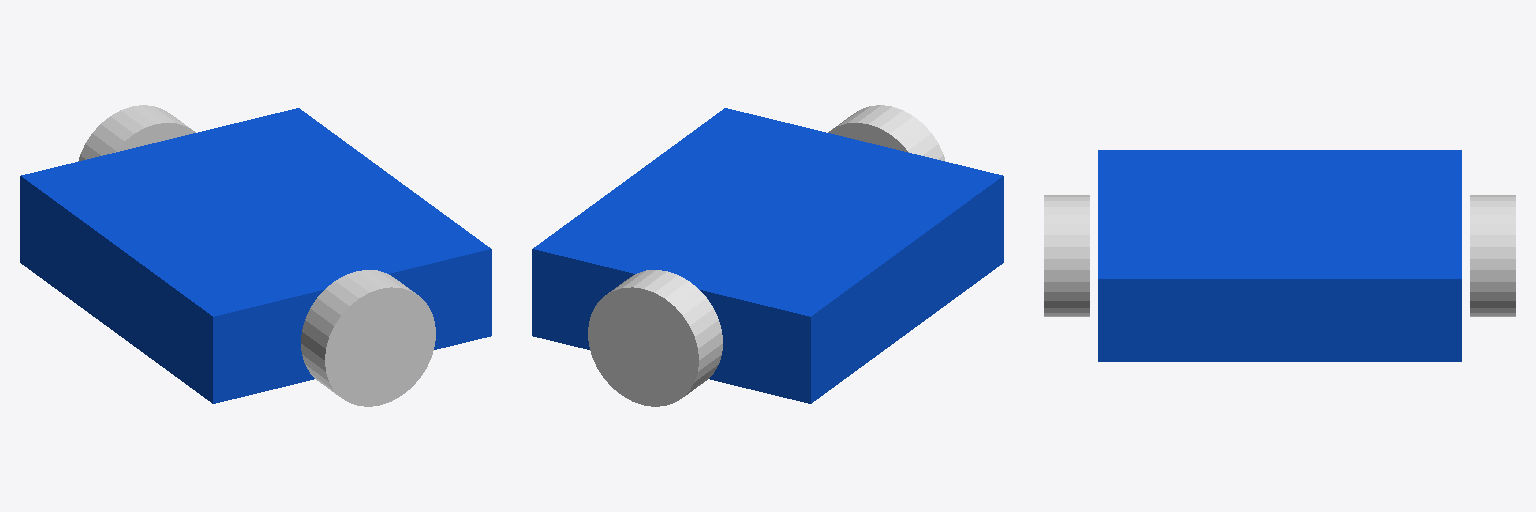
URDF robot description (my_robot):
<?xml version="1.0" ?>
<robot name="my_robot">
  <material name="blue">
    <color rgba="0.1 0.4 0.9 1"/>
  </material>
  <material name="white">
    <color rgba="0.9 0.9 0.9 1"/>
  </material>

  <!-- Base Link -->
  <link name="base_link">
    <visual>
      <origin xyz="0 0 0" rpy="0 0 0"/>
      <geometry>
        <!-- All dimensions in meters -->
        <box size="0.2 0.24 0.06" />
      </geometry>
      <material name="blue"/>
    </visual>
    <collision>
      <origin xyz="0 0 0" rpy="0 0 0"/>
      <geometry>
        <!-- All dimensions in meters -->
        <box size="0.2 0.24 0.06" />
      </geometry>
    </collision>
  </link>

  <!-- Left Wheel -->
  <joint name="left_wheel_joint" type="continuous">
    <parent link="base_link"/>
    <child link="left_wheel"/>
    <origin xyz="0 0.14 0" rpy="1.57079 0 0"/>
    <axis xyz="0 0 -1"/>      
  </joint>

  <link name="left_wheel">
    <visual>
      <origin xyz="0 0 0" rpy="0 0 0"/>
      <geometry>
        <cylinder length="0.03" radius="0.04"/>
      </geometry>
      <material name="white"/>
    </visual>
    <collision>
      <origin xyz="0 0 0" rpy="0 0 0"/>
      <geometry>
        <cylinder length="0.03" radius="0.04"/>
      </geometry>
    </collision>
  </link>


  <!-- Right Wheel -->
  <joint name="right_wheel_joint" type="continuous">
    <parent link="base_link"/>
    <child link="right_wheel"/>
    <origin xyz="0 -0.14 0" rpy="-1.57079 0 0"/>
    <axis xyz="0 0 -1"/>      
  </joint>

  <link name="right_wheel">
    <visual>
      <origin xyz="0 0 0" rpy="0 0 0"/>
      <geometry>
        <cylinder length="0.03" radius="0.04"/>
      </geometry>
      <material name="white"/>
    </visual>
    <collision>
      <origin xyz="0 0 0" rpy="0 0 0"/>
      <geometry>
        <cylinder length="0.03" radius="0.04"/>
      </geometry>
    </collision>
  </link>

</robot>

--- Facts derived from the render (not from the file) ---
The picture shows the robot from 3 angles, left to right: view 1: azimuth 30°, elevation 25°; view 2: azimuth 150°, elevation 25°; view 3: azimuth 270°, elevation 25°; orthographic projection.
Model my_robot with 3 links and 2 joints (2 continuous), rooted at base_link, posed every joint at zero.
Visible links, largest first — view 1: base_link, right_wheel, left_wheel; view 2: base_link, left_wheel, right_wheel; view 3: base_link, left_wheel, right_wheel.
Boxes of the visible links, x1=… form: base_link: x1=20, y1=108, x2=491, y2=403; right_wheel: x1=301, y1=270, x2=435, y2=406; left_wheel: x1=78, y1=105, x2=195, y2=161; base_link: x1=532, y1=108, x2=1003, y2=403; left_wheel: x1=588, y1=270, x2=722, y2=406; right_wheel: x1=828, y1=105, x2=945, y2=161; base_link: x1=1098, y1=150, x2=1461, y2=361; left_wheel: x1=1470, y1=195, x2=1515, y2=316; right_wheel: x1=1044, y1=195, x2=1089, y2=316.
Size in the robot's own frame: 0.2 by 0.31 by 0.08 metres.
Geometry: primitives only (box / cylinder / sphere), no mesh files.
